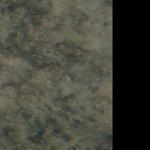dead: (2, 1, 112, 148)
